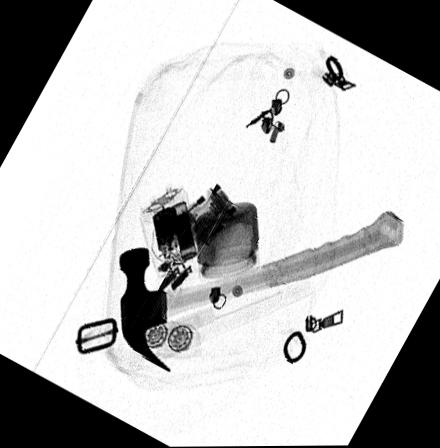Hammer: (118, 210, 403, 373)
